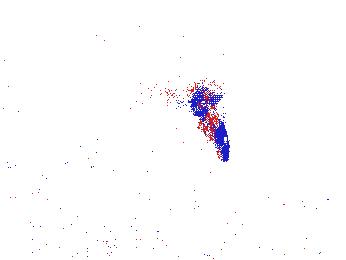X-ray fish: (75, 141, 141, 175)
redtail glassfish: (189, 90, 231, 158), (256, 195, 336, 223)
